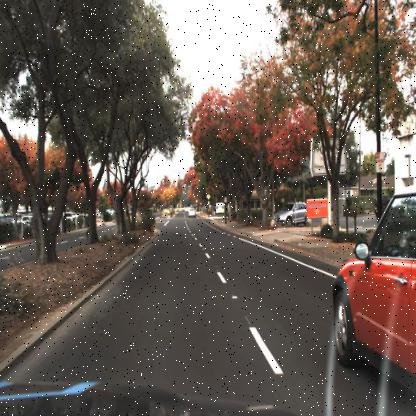car: (323, 182, 416, 394), (272, 196, 312, 229), (187, 205, 197, 220)
